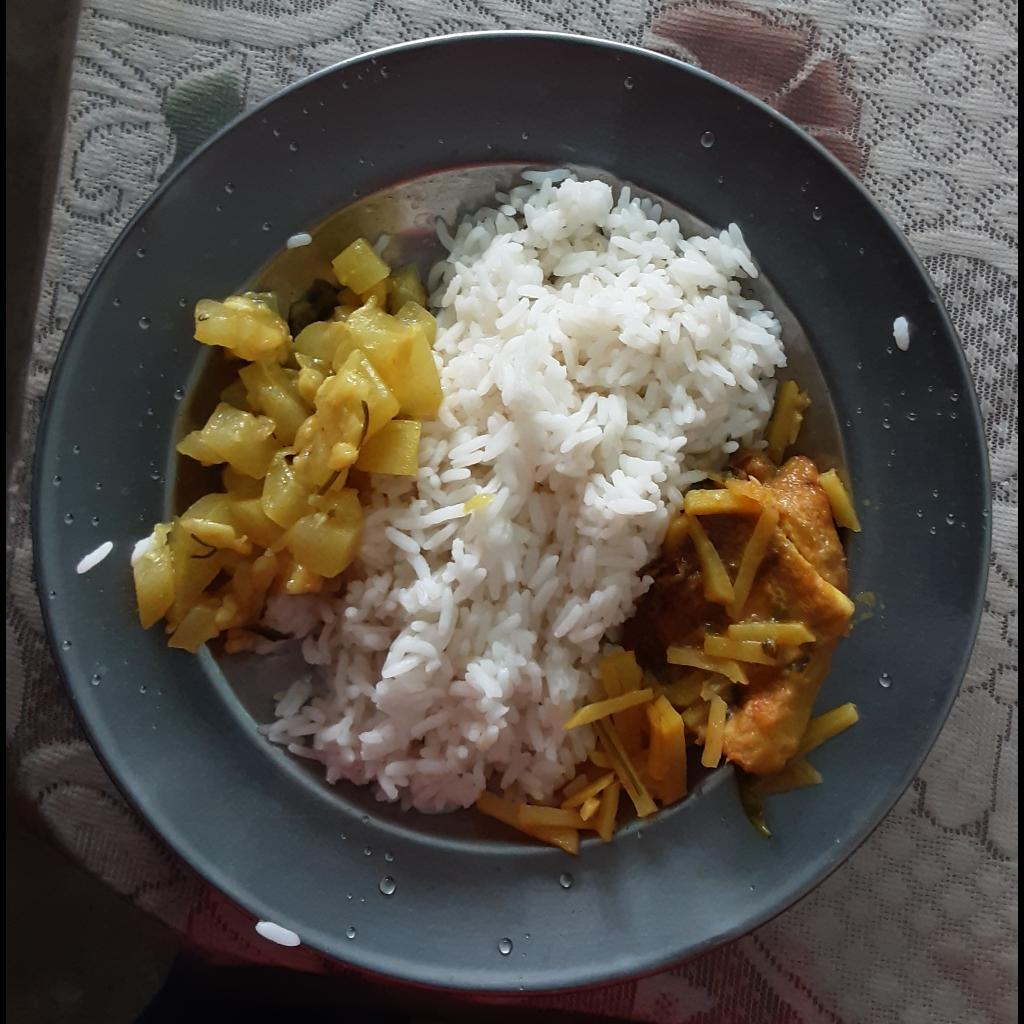fish: (725, 448, 855, 773)
lau: (134, 235, 445, 659)
potato: (477, 472, 816, 856), (747, 700, 860, 801), (765, 376, 809, 471), (822, 467, 868, 529)
rice: (257, 166, 790, 812)
tomato: (616, 552, 725, 681)
